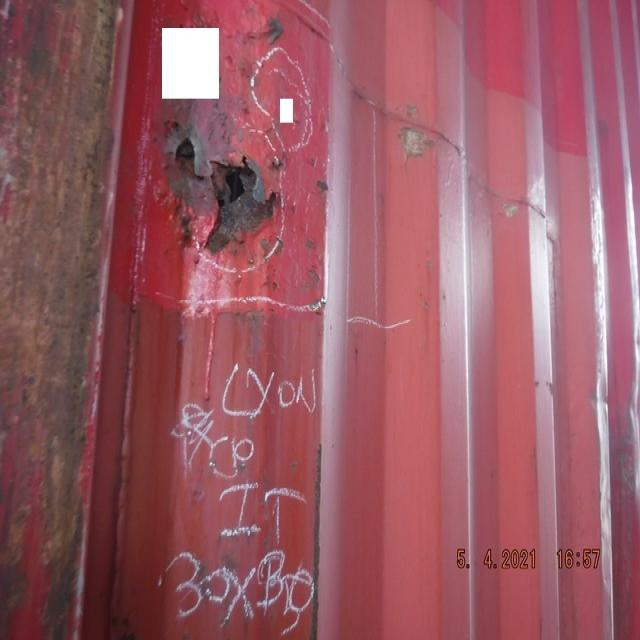hole: (164, 125, 281, 261)
